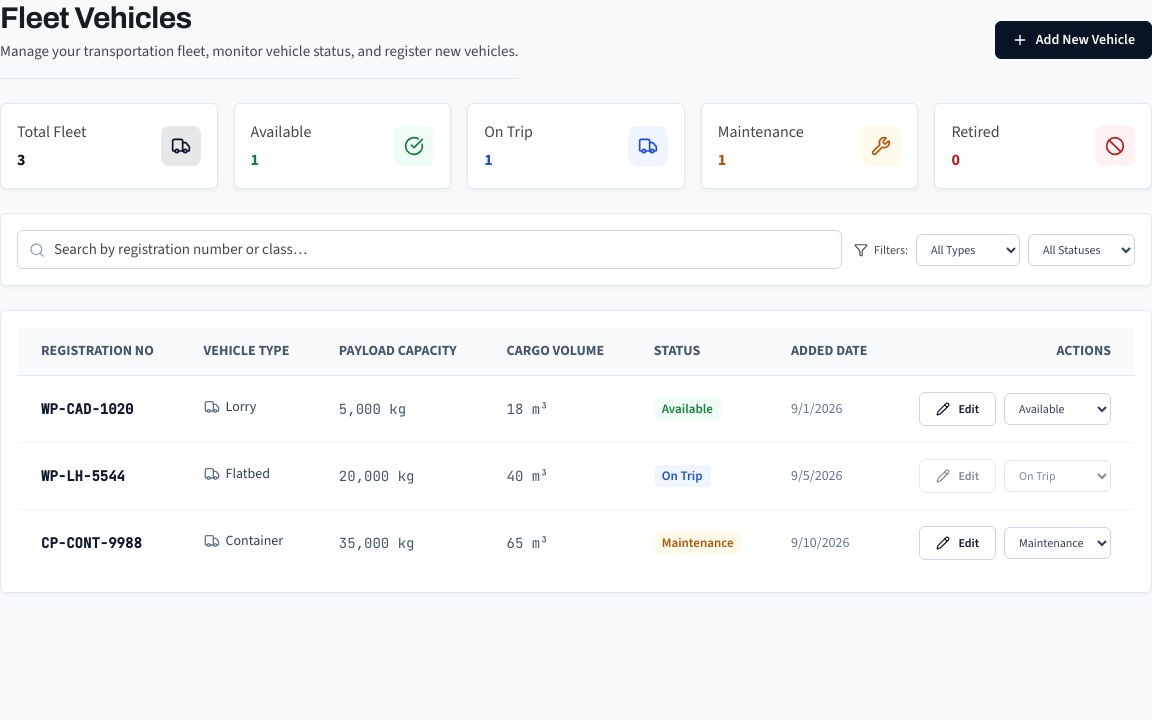
Test case: FleetVehiclesPage › validates fields in advance using Formik and Yup and prevents submit on empty fields
Click the button "Add New Vehicle" at (1073, 40), box [995, 20, 1151, 58]
(page scrolled)
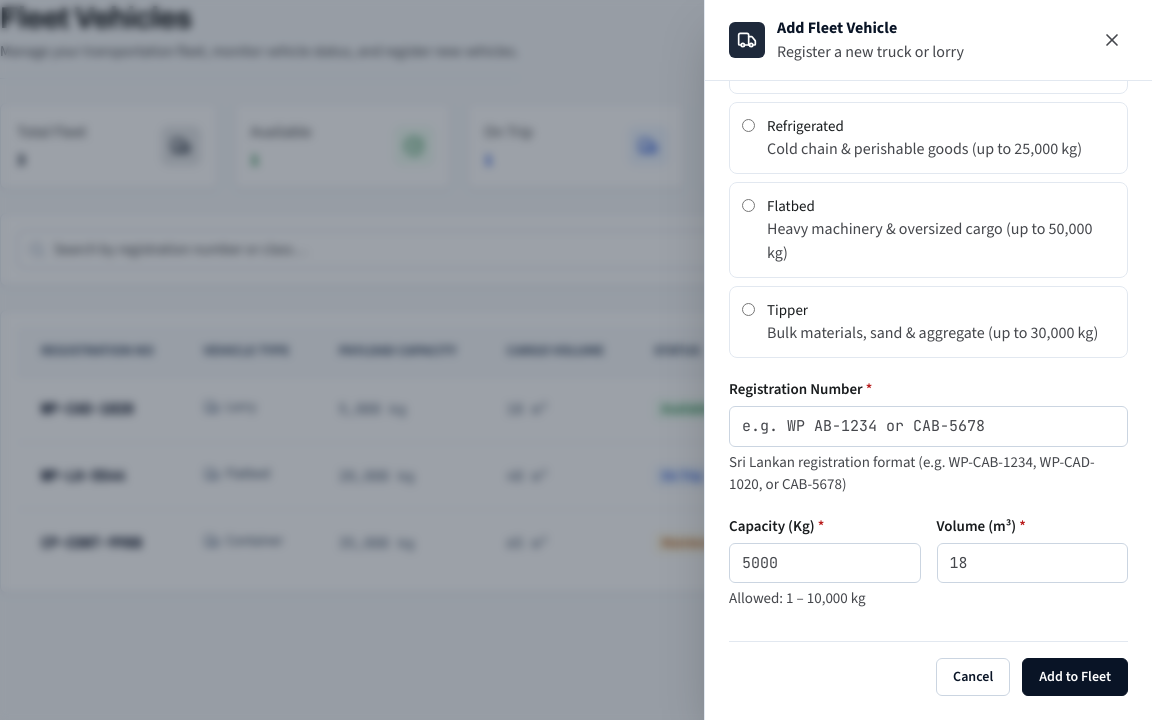
Check: the dialog is shown, box [704, 0, 1151, 719]
// Click submit with empty required fields
Click the button "Add to Fleet" at (1075, 677), box [1022, 658, 1128, 696]
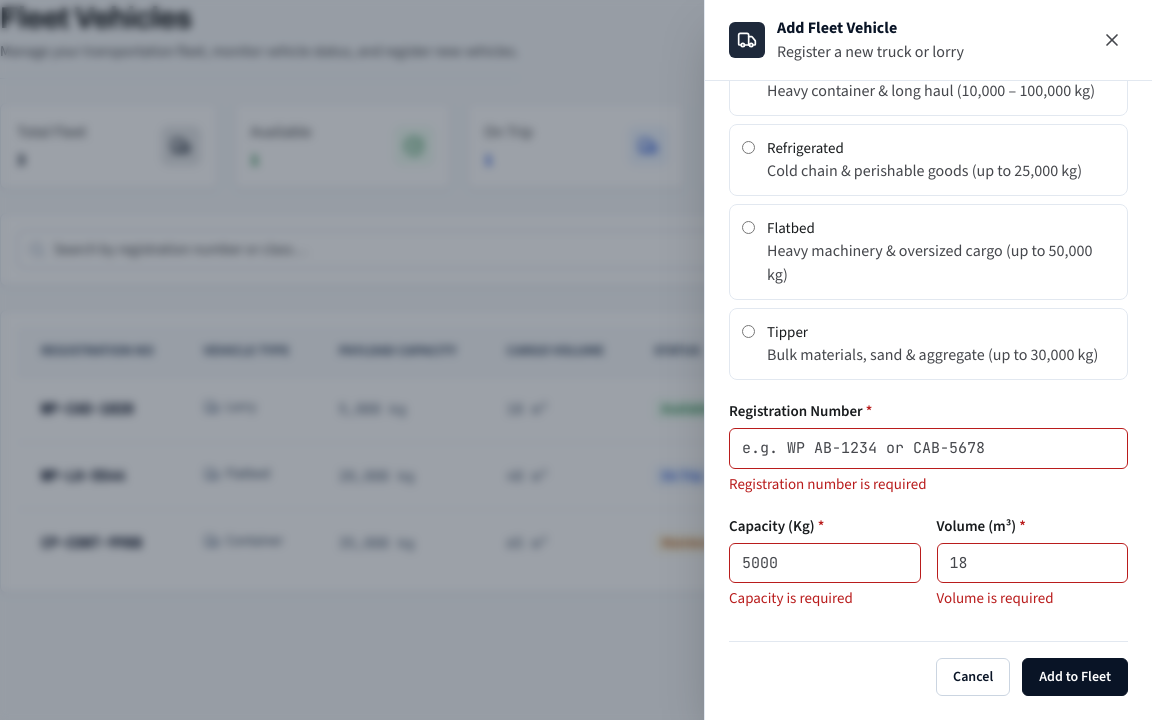
Check: the text "Registration number is required" is shown, box [729, 474, 926, 494]
Check: the text "Capacity is required" is shown, box [729, 588, 853, 608]
Check: the text "Volume is required" is shown, box [936, 588, 1054, 608]
